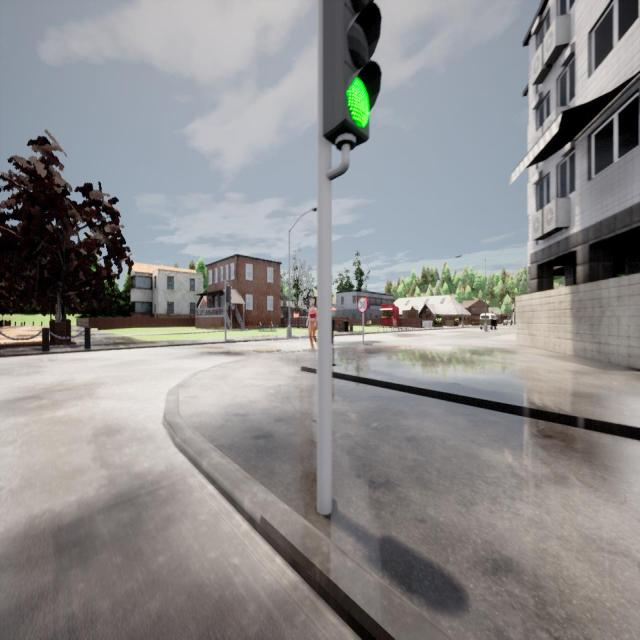Pedestrian: (306, 298, 317, 349)
Traffic_Signs: (357, 297, 369, 313)
Vehicle: (480, 313, 498, 330), (503, 317, 512, 326)
traffic_light: (323, 0, 381, 144), (226, 286, 232, 302)
